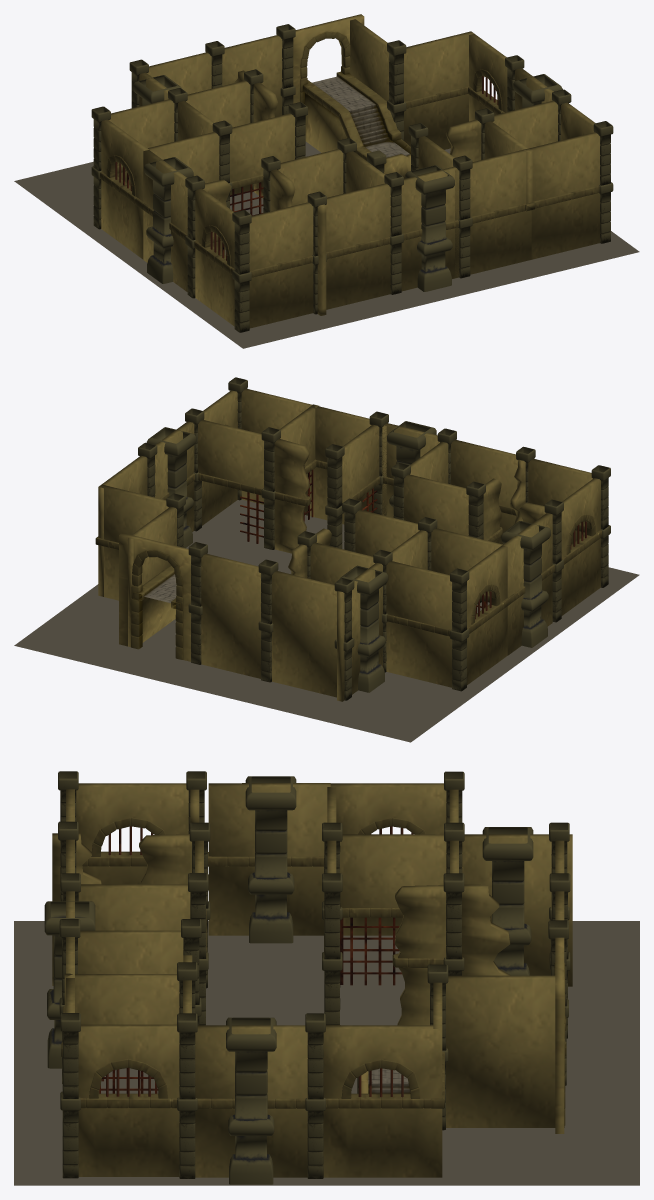
The model's file is Prison.fbx.
3 views of the same model, one above another, from view 1: azimuth 30°, elevation 25°; view 2: azimuth 150°, elevation 25°; view 3: azimuth 270°, elevation 25° (orthographic). The views are drawn at different scales.
Parts seen in each view (by area): view 1: Plane, Wall_Details.011, Wall_1.009, Wall_1.012, Wall_1.013, Wall_1.010, Wall_1.003, Wall_8, Wall_8.003, Wall_5, Pillar.003, Wall_1.014 (+39 smaller); view 2: Plane, Wall_1.006, Wall_1.001, Wall_1.004, Wall_Details.011, Wall_8, Wall_7, Wall_8.003, Wall_3.002, Wall_1.010, Wall_1.003, Wall_1 (+40 smaller); view 3: Plane, Wall_8.001, Wall_1.002, Wall_8.002, Wall_1, Wall_1.007, Wall_5.002, Wall_8.003, Pillar.001, Pillar, Wall_8, Wall_1.005 (+31 smaller).
Part boxes in pixels (<box>): Plane: <box>14,141,639,348</box>; Wall_Details.011: <box>293,14,411,178</box>; Wall_1.009: <box>529,132,611,259</box>; Wall_1.012: <box>325,183,390,309</box>; Wall_1.013: <box>249,202,313,328</box>; Wall_1.010: <box>454,148,534,277</box>; Wall_1.003: <box>403,31,473,149</box>; Wall_8: <box>100,119,148,259</box>; Wall_8.003: <box>194,188,234,326</box>; Wall_5: <box>229,113,295,215</box>; Pillar.003: <box>405,165,454,291</box>; Wall_1.014: <box>401,166,472,291</box>; Plane: <box>14,499,639,742</box>; Wall_1.006: <box>386,561,452,687</box>; Wall_1.001: <box>271,571,336,697</box>; Wall_1.004: <box>201,553,261,678</box>; Wall_Details.011: <box>119,532,191,661</box>; Wall_8: <box>466,545,510,684</box>; Wall_7: <box>197,420,264,543</box>; Wall_8.003: <box>561,478,601,615</box>; Wall_3.002: <box>274,438,310,553</box>; Wall_1.010: <box>309,405,387,524</box>; Wall_1.003: <box>95,484,168,600</box>; Wall_1: <box>502,513,554,655</box>; Plane: <box>14,921,639,1185</box>; Wall_8.001: <box>323,1025,444,1177</box>; Wall_1.002: <box>445,975,564,1127</box>; Wall_8.002: <box>78,1024,179,1176</box>; Wall_1: <box>208,783,330,935</box>; Wall_1.007: <box>195,1025,307,1177</box>; Wall_5.002: <box>340,834,446,985</box>; Wall_8.003: <box>76,783,188,884</box>; Pillar.001: <box>226,1017,276,1184</box>; Pillar: <box>245,776,296,943</box>; Wall_8: <box>330,783,446,935</box>; Wall_1.005: <box>462,834,572,986</box>.
Size of the model in its own units: 3166 by 890 by 3158.
